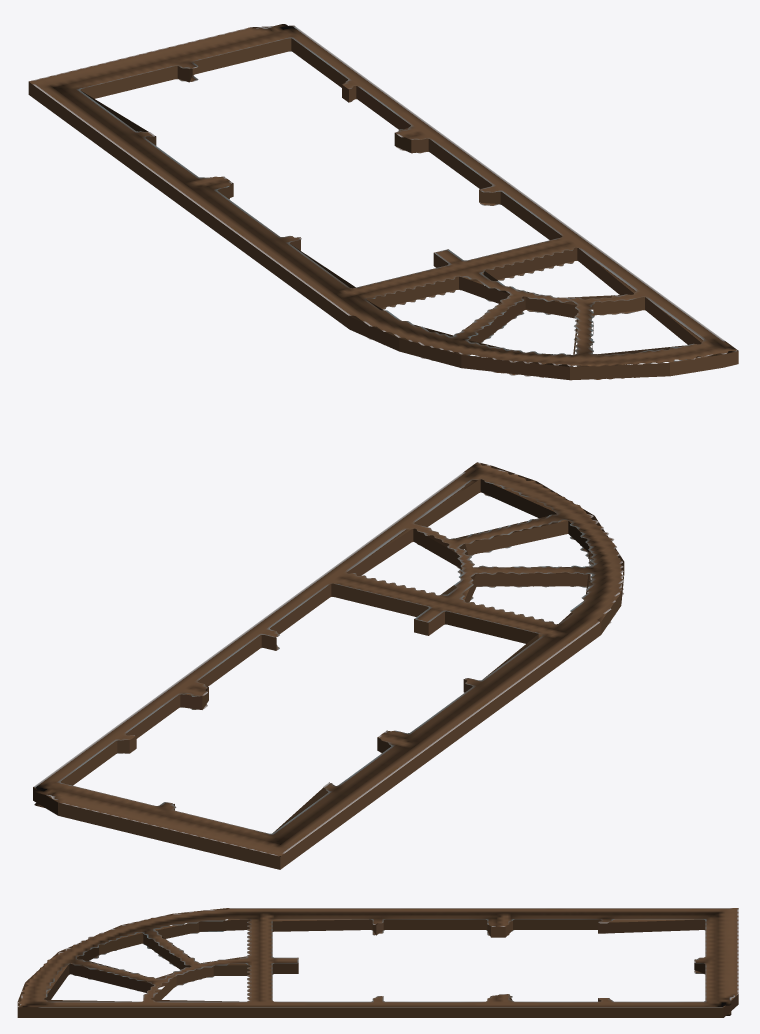
File: pz_native_fixtures_windows_wood_61_frame.obj
3 views of the same model, one above another, from view 1: azimuth 30°, elevation 25°; view 2: azimuth 150°, elevation 25°; view 3: azimuth 270°, elevation 25° (orthographic). The views are drawn at different scales.
Visible parts, largest first — view 1: pz_native_fixtures_windows_wood_61_frame; view 2: pz_native_fixtures_windows_wood_61_frame; view 3: pz_native_fixtures_windows_wood_61_frame.
Part boxes in pixels (x1,y1,x2,y2): pz_native_fixtures_windows_wood_61_frame: (28, 24, 738, 380); pz_native_fixtures_windows_wood_61_frame: (33, 462, 624, 869); pz_native_fixtures_windows_wood_61_frame: (17, 908, 738, 1017).
Size of the model in its own units: 0.8594 by 0.04 by 2.53.
Materials: 1 (1 with a texture image).
